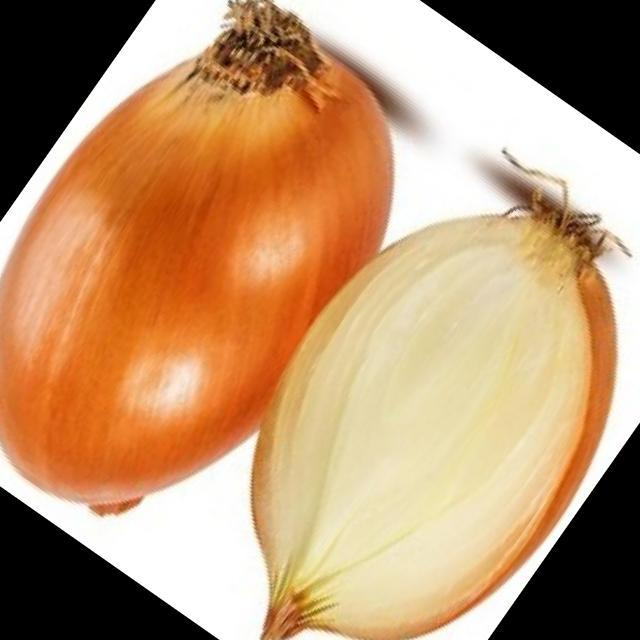Onion: (0, 17, 390, 512), (256, 213, 618, 640)
